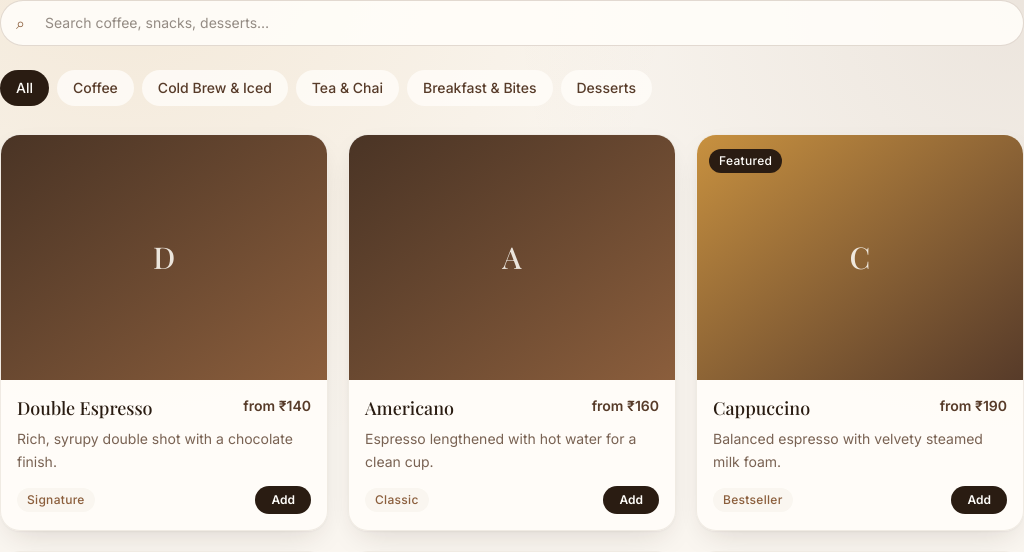
Scenario: MenuBrowser › filters items by search and shows an empty state
This screenshot has width=1024, height=552.
Type "zzzznotathing" into the search field named "Search the menu" at (512, 23), box [0,0,1023,46]
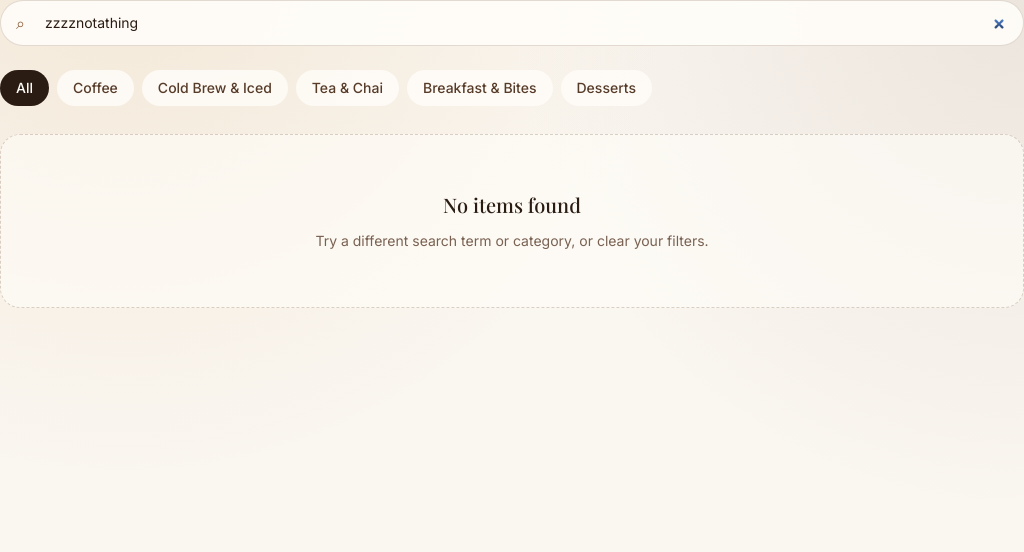
expect the heading "No items found" is shown: met, box [443,191,581,219]
